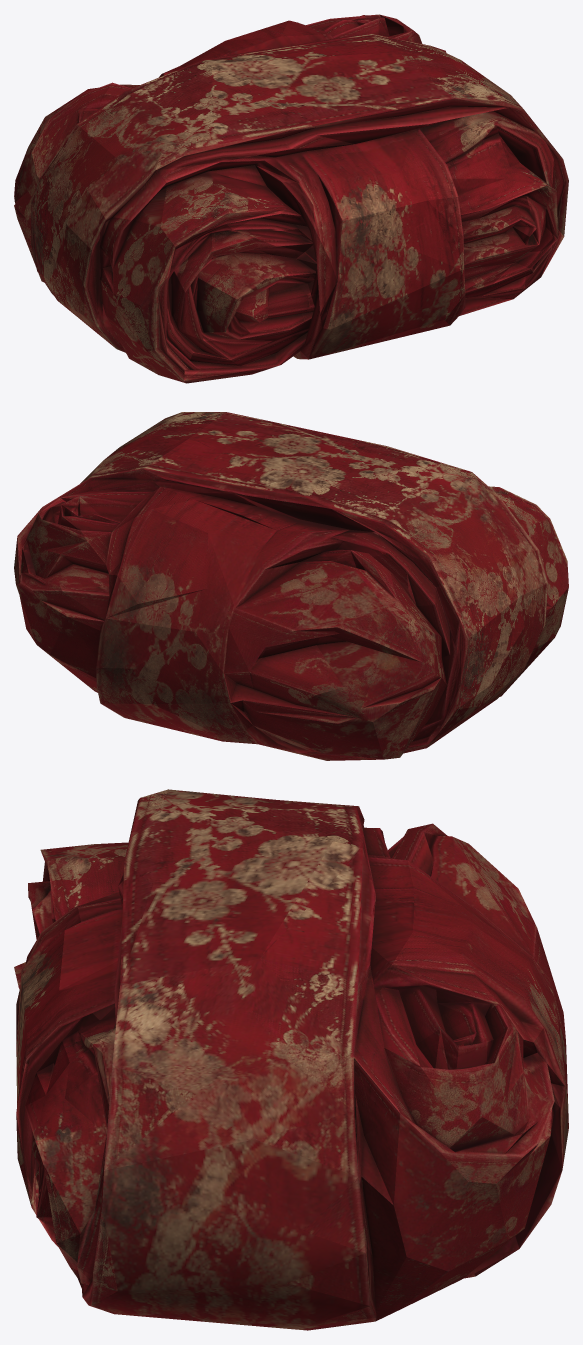
Rendered from ppalgan_daenggi.glb.
3 views of the same model, one above another, from view 1: azimuth 30°, elevation 25°; view 2: azimuth 150°, elevation 25°; view 3: azimuth 270°, elevation 25° (orthographic). The views are drawn at different scales.
Size of the model in its own units: 1.89 by 0.9841 by 1.39.
1 material, 1 textured.
